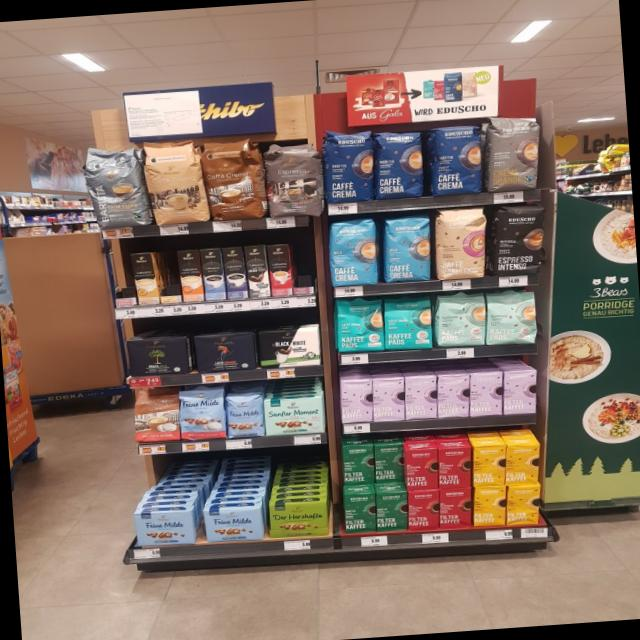BM Gemahlen: (125, 334, 192, 378)
BW Gemahlen: (256, 326, 322, 367)
Barista CC: (80, 142, 149, 232)
CC Mild: (142, 136, 208, 228)
CC Vollmundig: (131, 385, 181, 444)
CC Vollmundig 36 Pads: (200, 136, 266, 224)
Empty Shelf: (153, 250, 180, 296), (108, 253, 134, 299), (290, 242, 316, 287)
Espresso Aromatisch: (262, 136, 326, 222)
FM 36 Pads: (178, 384, 226, 442)
FM Bohne: (223, 390, 266, 440)
FM Gemahlen: (131, 506, 196, 548), (202, 504, 266, 544)
Herzhatfe Mundig: (268, 500, 332, 540)
LG Gemahlen: (190, 329, 260, 374)
SM Gemahlen: (264, 396, 326, 436)
Simo CCVollmundig bigpack: (176, 249, 204, 303)
Simo Decaff: (131, 252, 159, 304)
Simo Es Brazil: (268, 244, 294, 298)
Simo Es Elegant: (243, 244, 270, 298)
Simo Es Kraft: (222, 247, 248, 300)
Simo Es Vanilla: (200, 248, 226, 301)
